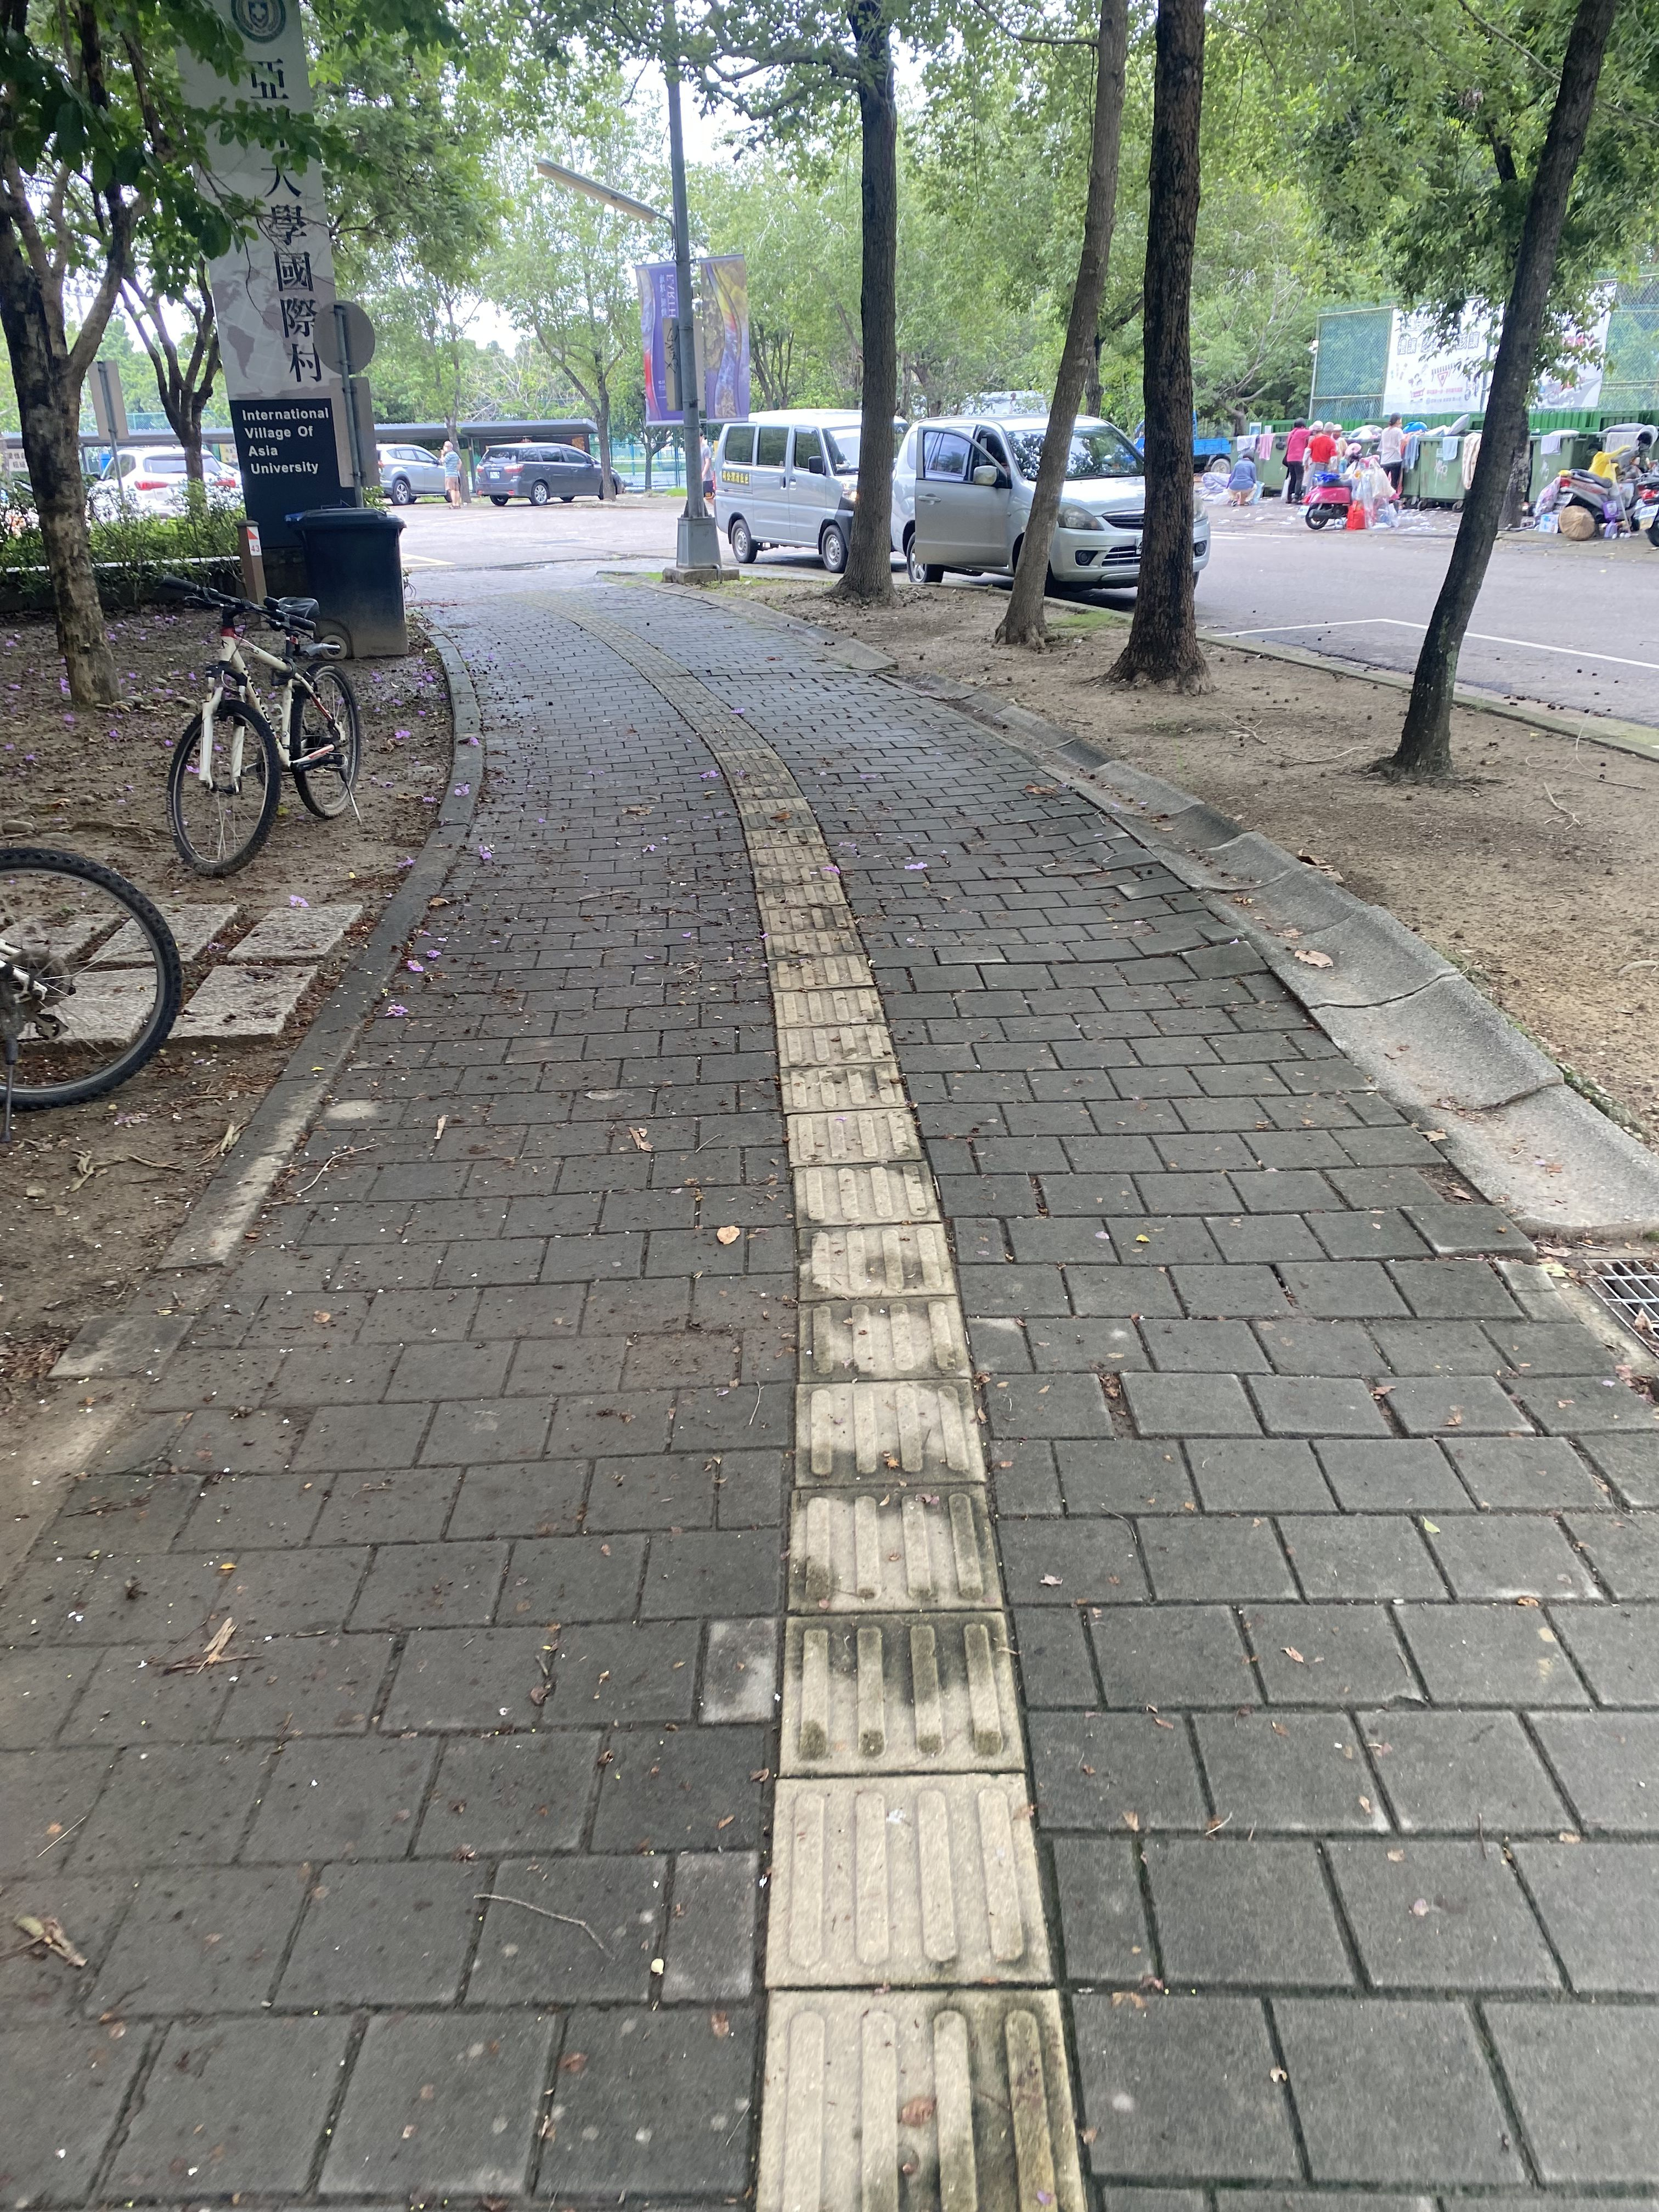sidewalk: (17, 554, 1656, 2212)
